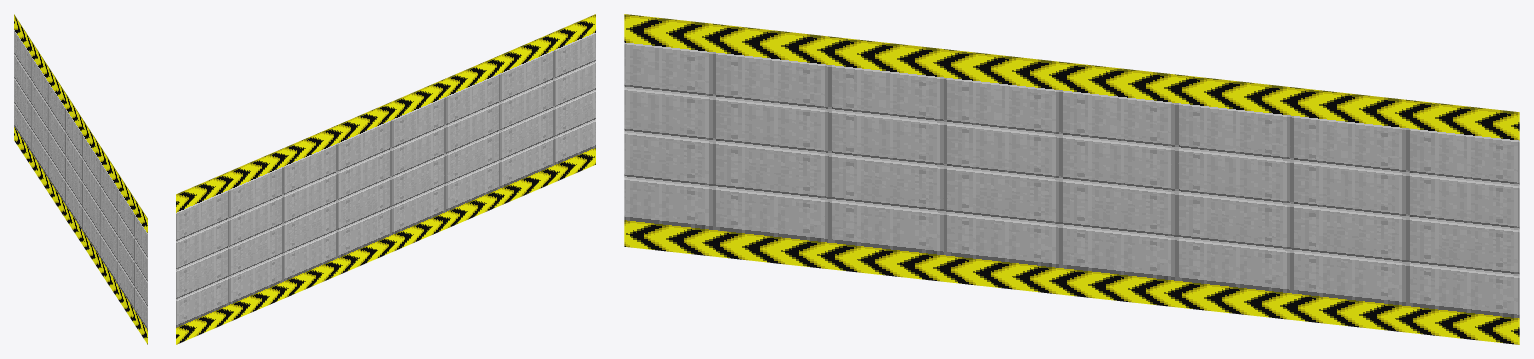
3 renders of one model, left to right at view 1: azimuth 30°, elevation 25°; view 2: azimuth 150°, elevation 25°; view 3: azimuth 270°, elevation 25°, orthographic. The views are drawn at different scales.
Parts seen in each view (by area): view 1: obj-61; view 2: obj-61; view 3: obj-61.
Boxes of the visible parts, x1=… form: obj-61: x1=14, y1=14, x2=147, y2=344; obj-61: x1=176, y1=14, x2=595, y2=344; obj-61: x1=624, y1=14, x2=1519, y2=344.
Size of the model in its own units: 0.5088 by 0.5625 by 1.96.
Materials: 1 (1 with a texture image).
